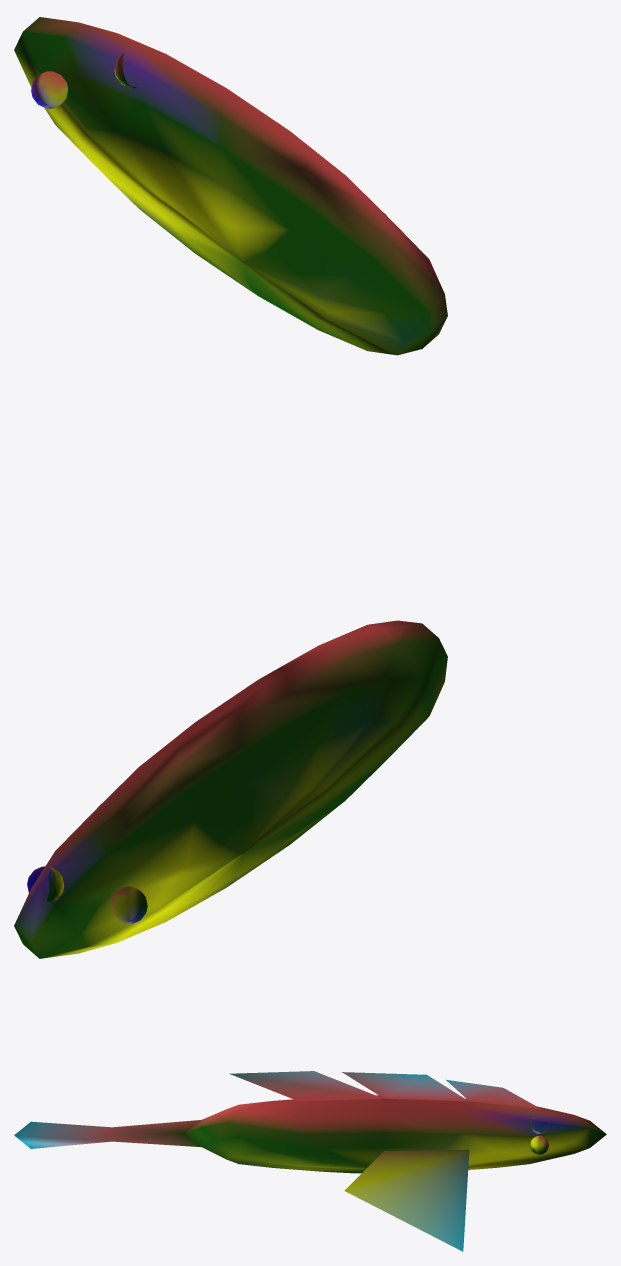
Rendered from bigman.glb.
The picture shows the model from 3 angles, top to bottom: view 1: azimuth 30°, elevation 25°; view 2: azimuth 150°, elevation 25°; view 3: azimuth 270°, elevation 25°; orthographic projection. The views are drawn at different scales.
Parts seen in each view (by area): view 1: Bigman; view 2: Bigman; view 3: Bigman.
Part boxes in pixels (x1,y1,x2,y2): Bigman: [14, 17, 447, 355]; Bigman: [14, 620, 447, 958]; Bigman: [14, 1071, 606, 1251].
Size of the model in its own units: 0.7191 by 0.7874 by 2.8.
